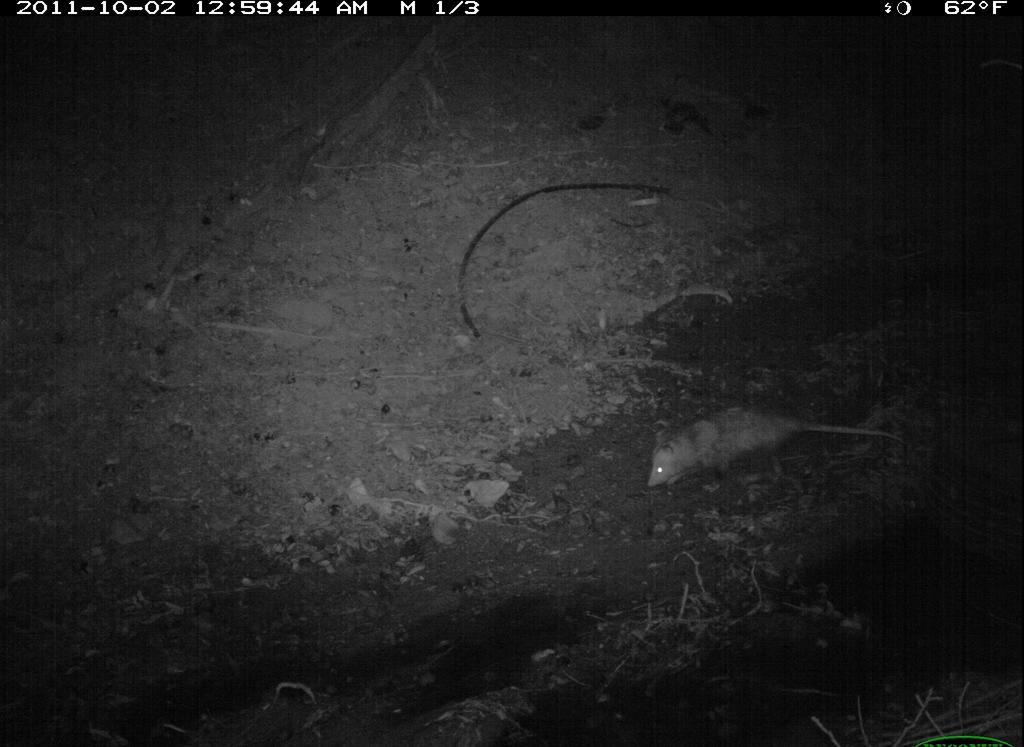opossum: (638, 392, 898, 500)
